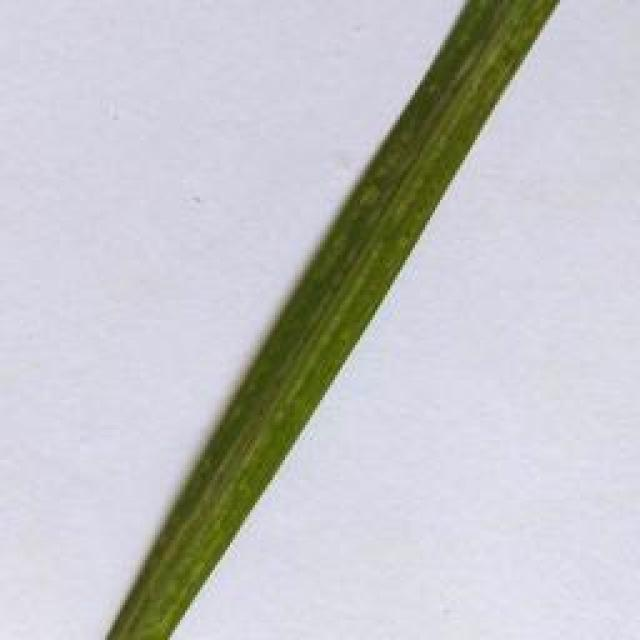Healthy-Plant: (97, 0, 556, 640)
